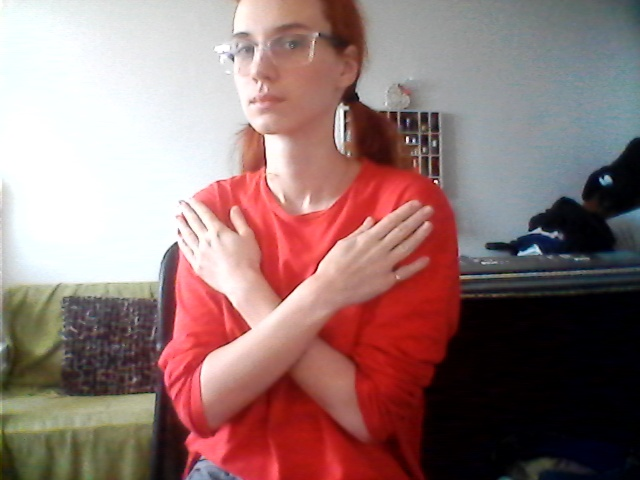z: (170, 195, 440, 446)
